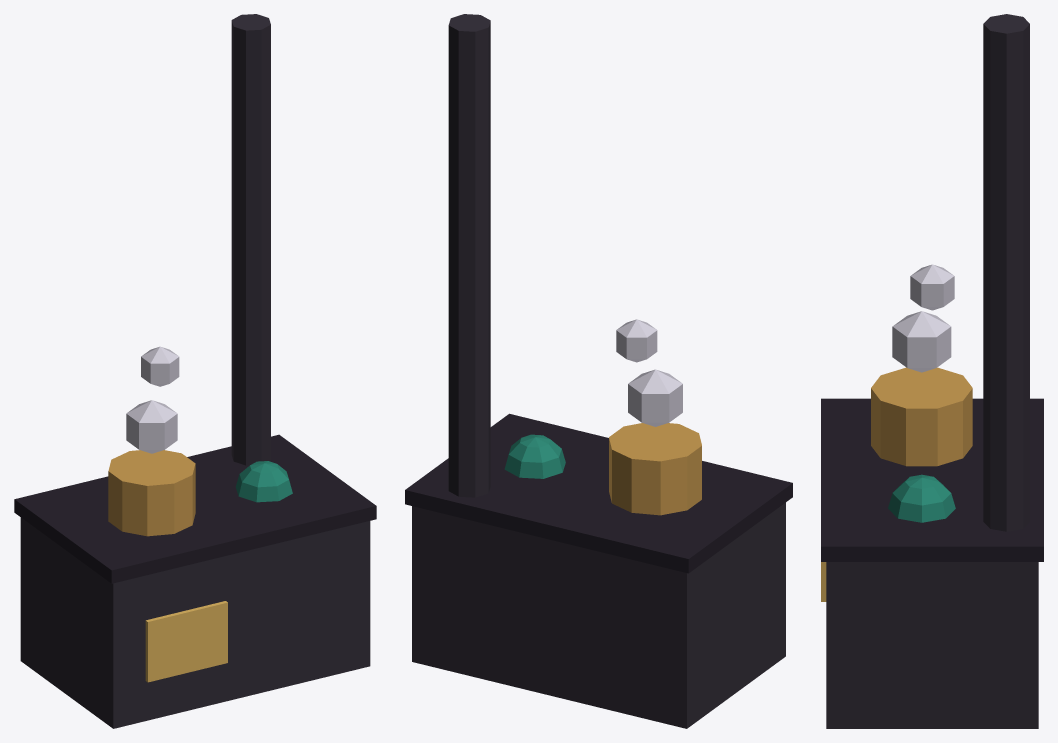
The model's file is stove.gltf.
3 views of the same model, side by side, from view 1: azimuth 30°, elevation 25°; view 2: azimuth 150°, elevation 25°; view 3: azimuth 270°, elevation 25° (orthographic). The views are drawn at different scales.
Visible parts, largest first — view 1: body, top, pipe, pot, door, steam, kettle, steam.2; view 2: body, top, pipe, pot, steam, kettle, steam.2; view 3: body, pipe, top, pot, steam, kettle, steam.2.
Part boxes in pixels (<box>): body: <box>20,517,370,728</box>; top: <box>14,434,376,583</box>; pipe: <box>231,14,270,465</box>; pot: <box>108,450,195,536</box>; door: <box>145,601,227,682</box>; steam: <box>126,400,177,453</box>; kettle: <box>236,461,292,502</box>; steam.2: <box>141,346,179,386</box>; body: <box>412,502,785,728</box>; top: <box>405,413,792,573</box>; pipe: <box>448,14,490,497</box>; pot: <box>609,423,701,515</box>; steam: <box>628,369,682,426</box>; kettle: <box>504,434,565,478</box>; steam.2: <box>616,319,657,362</box>; body: <box>826,562,1038,728</box>; pipe: <box>983,14,1029,531</box>; top: <box>821,398,1043,561</box>; pot: <box>871,367,972,466</box>; steam: <box>892,311,951,372</box>; kettle: <box>888,474,955,522</box>; steam.2: <box>910,264,954,310</box>.
Bounding box in the file's own units: 1.65 × 3.55 × 1.05.
